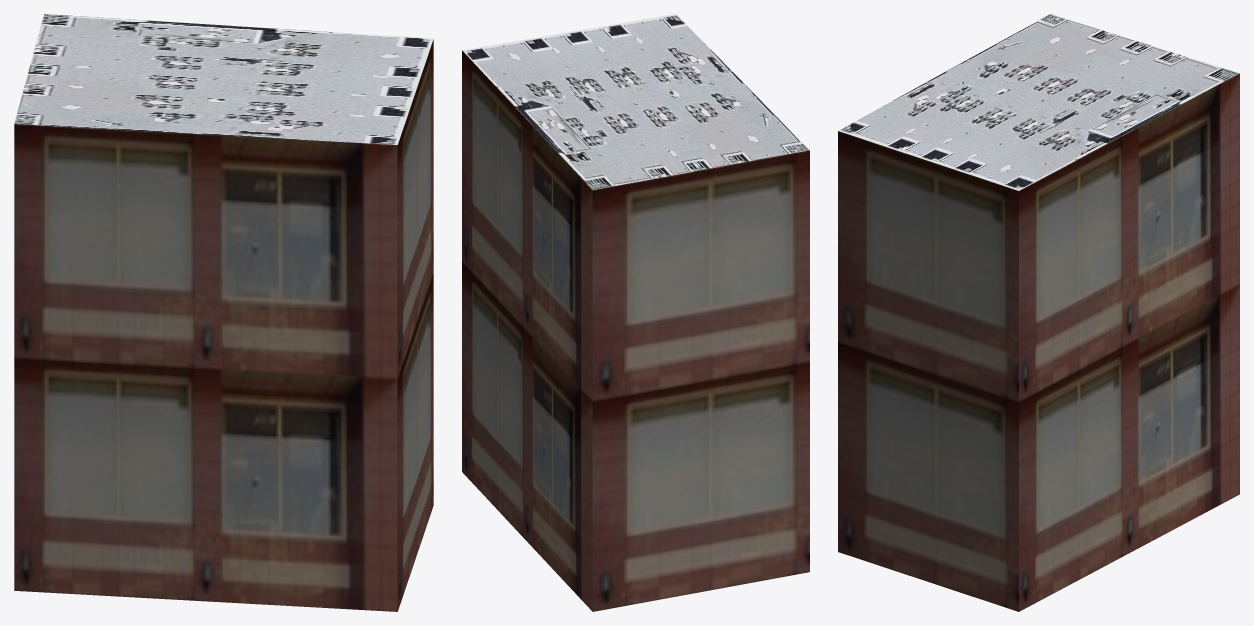
File: ResTex__3295.fbx
3 views of the same model, side by side, from view 1: azimuth 30°, elevation 25°; view 2: azimuth 150°, elevation 25°; view 3: azimuth 270°, elevation 25° (orthographic). The views are drawn at different scales.
Visible parts, largest first — view 1: CityEngineMaterial_13_m, CityEngineMaterial_m; view 2: CityEngineMaterial_13_m, CityEngineMaterial_m; view 3: CityEngineMaterial_13_m, CityEngineMaterial_m.
Part boxes in pixels (left/top/right/bottom): CityEngineMaterial_13_m: left=14, top=39, right=433, bottom=611; CityEngineMaterial_m: left=14, top=14, right=433, bottom=144; CityEngineMaterial_13_m: left=462, top=50, right=809, bottom=611; CityEngineMaterial_m: left=462, top=14, right=809, bottom=189; CityEngineMaterial_13_m: left=838, top=73, right=1239, bottom=611; CityEngineMaterial_m: left=838, top=14, right=1239, bottom=190.
Bounding box in the file's own units: 5.41 × 6 × 5.19.
Materials: 2 (2 with a texture image).
